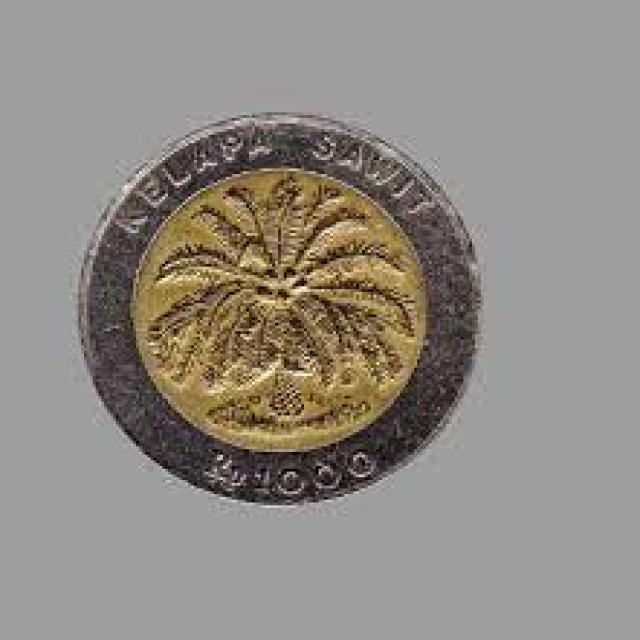1000-sawit: (64, 103, 508, 522)
